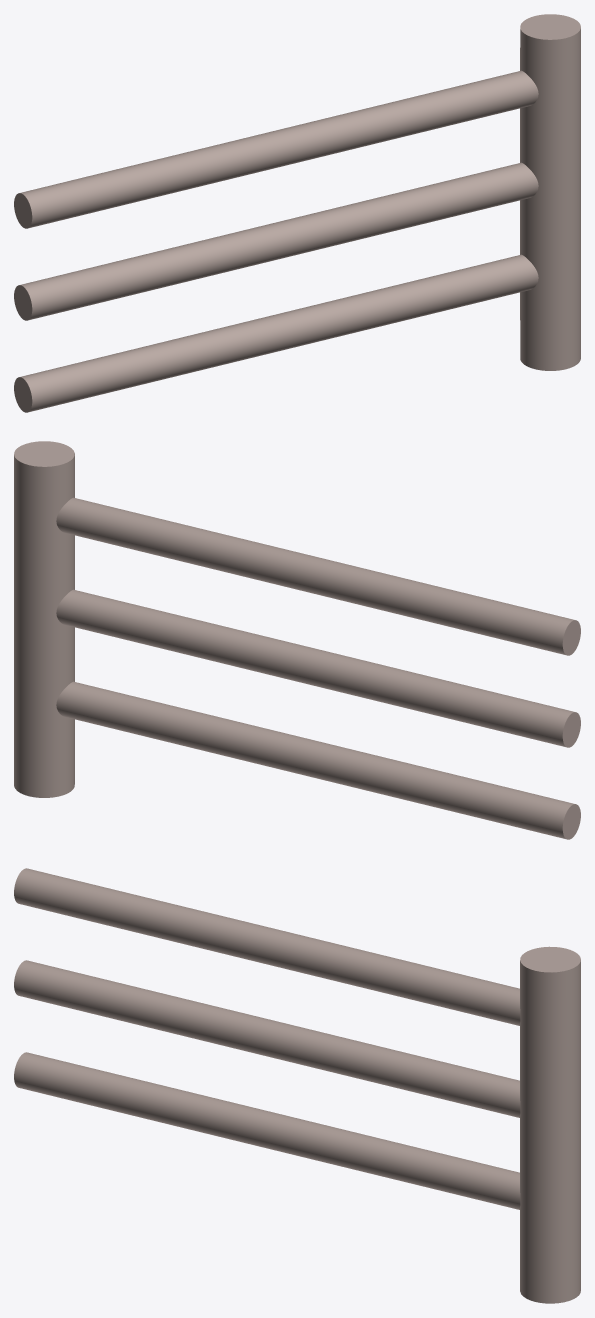
Rendered from 1011_fence_connect.glb.
3 views of the same model, one above another, from view 1: azimuth 30°, elevation 25°; view 2: azimuth 150°, elevation 25°; view 3: azimuth 330°, elevation 25° (orthographic).
Visible parts, largest first — view 1: Body; view 2: Body; view 3: Body.
Boxes of the visible parts, x1=… form: Body: x1=14, y1=14, x2=580, y2=412; Body: x1=14, y1=441, x2=580, y2=839; Body: x1=14, y1=868, x2=580, y2=1303.
Size of the model in its own units: 1.58 by 0.9 by 0.15.
